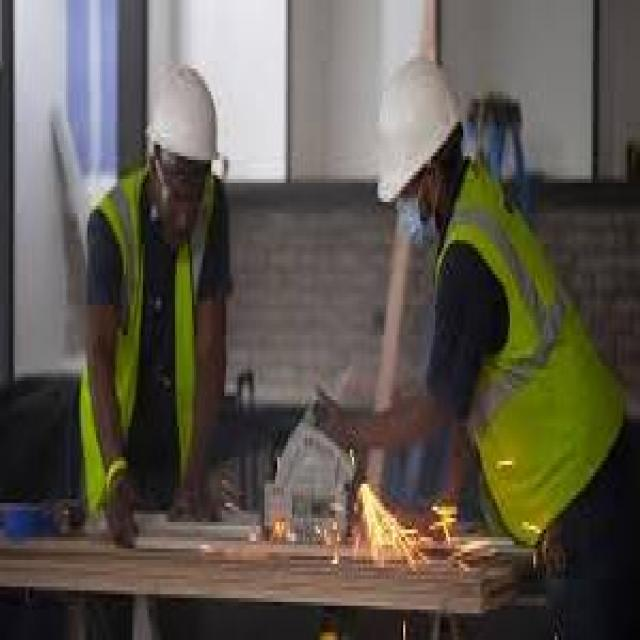Reflective-Jacket: (66, 171, 235, 541), (425, 156, 627, 423)
Safety-Helmet: (367, 46, 474, 206), (132, 53, 233, 187)
